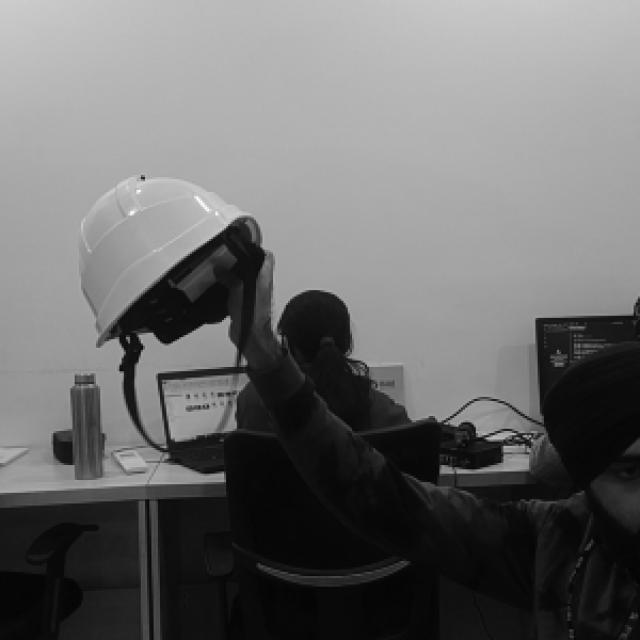safety_helmet: (79, 175, 252, 348)
